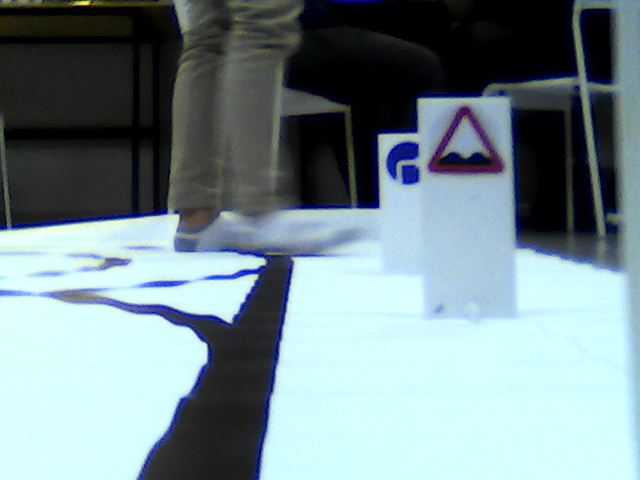Nerov: (423, 104, 506, 174)
